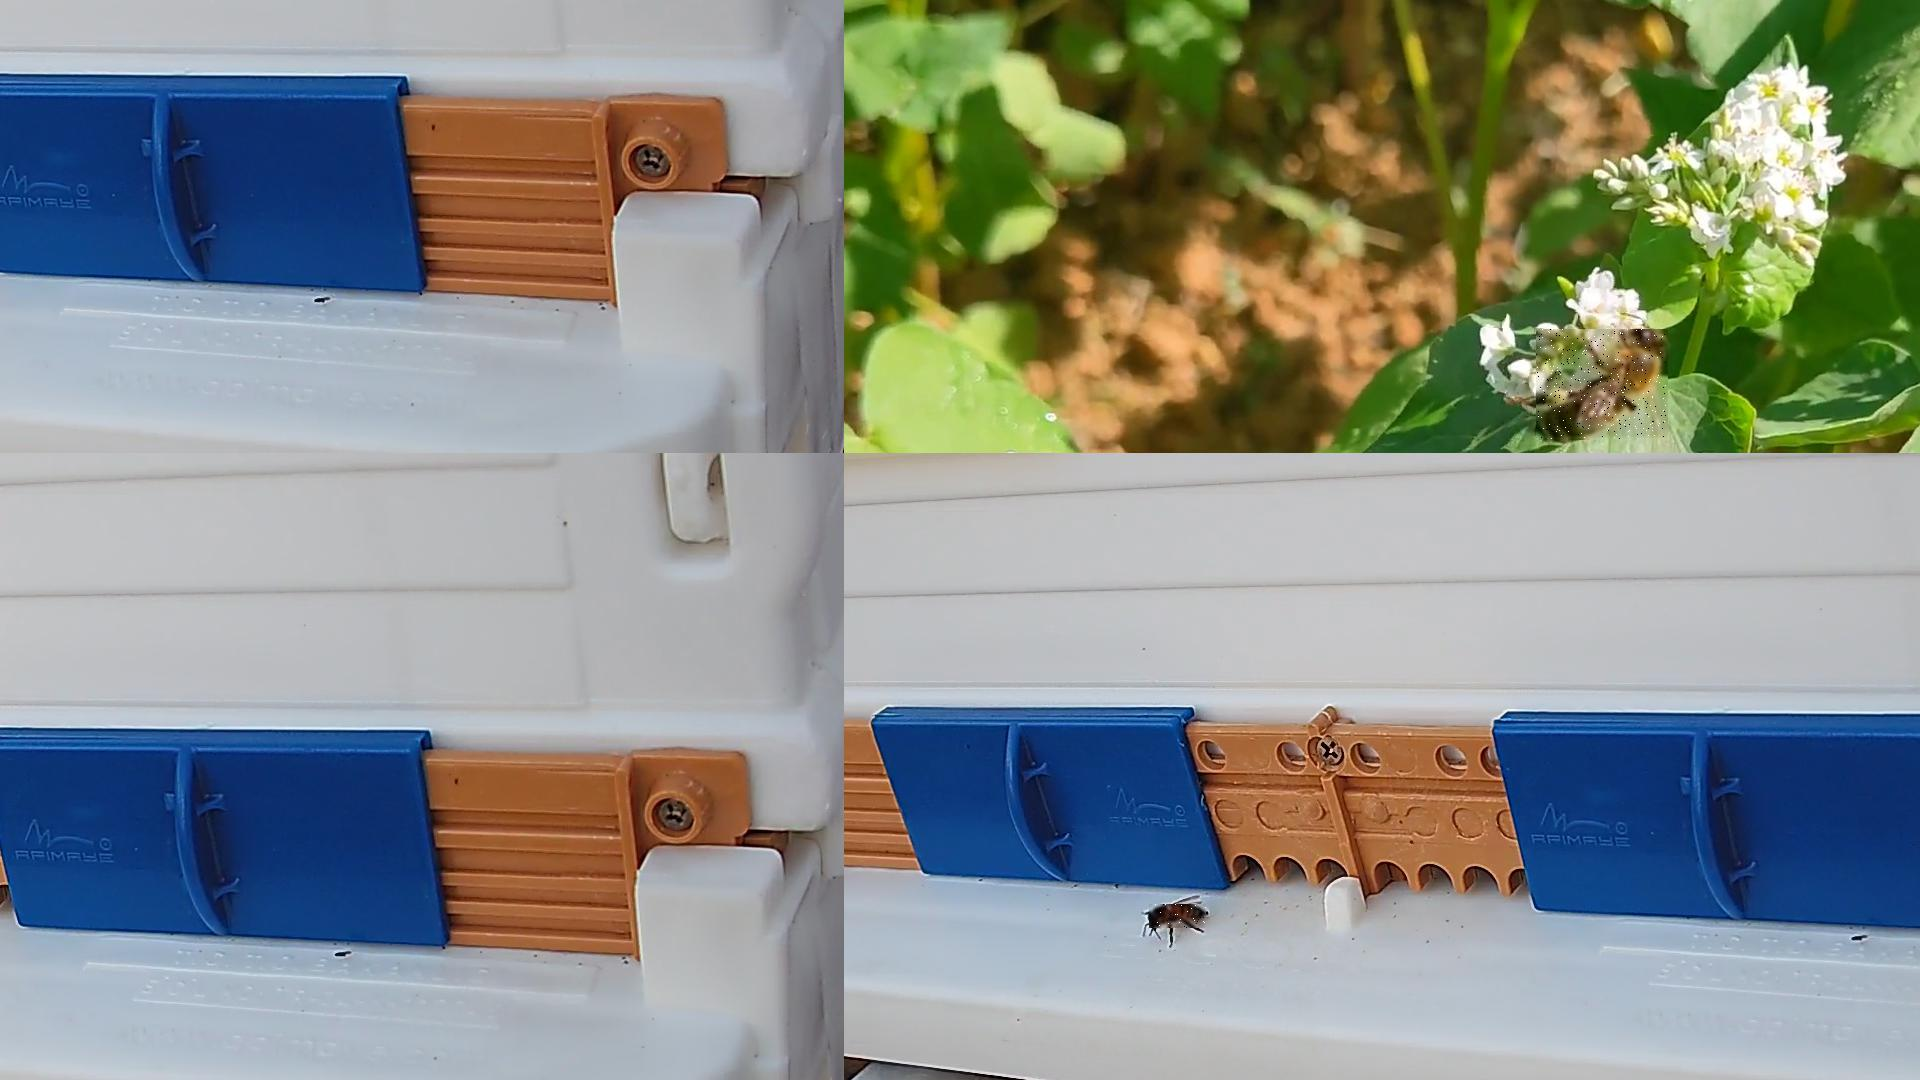bee: (1536, 330, 1669, 440), (1150, 905, 1209, 930)
